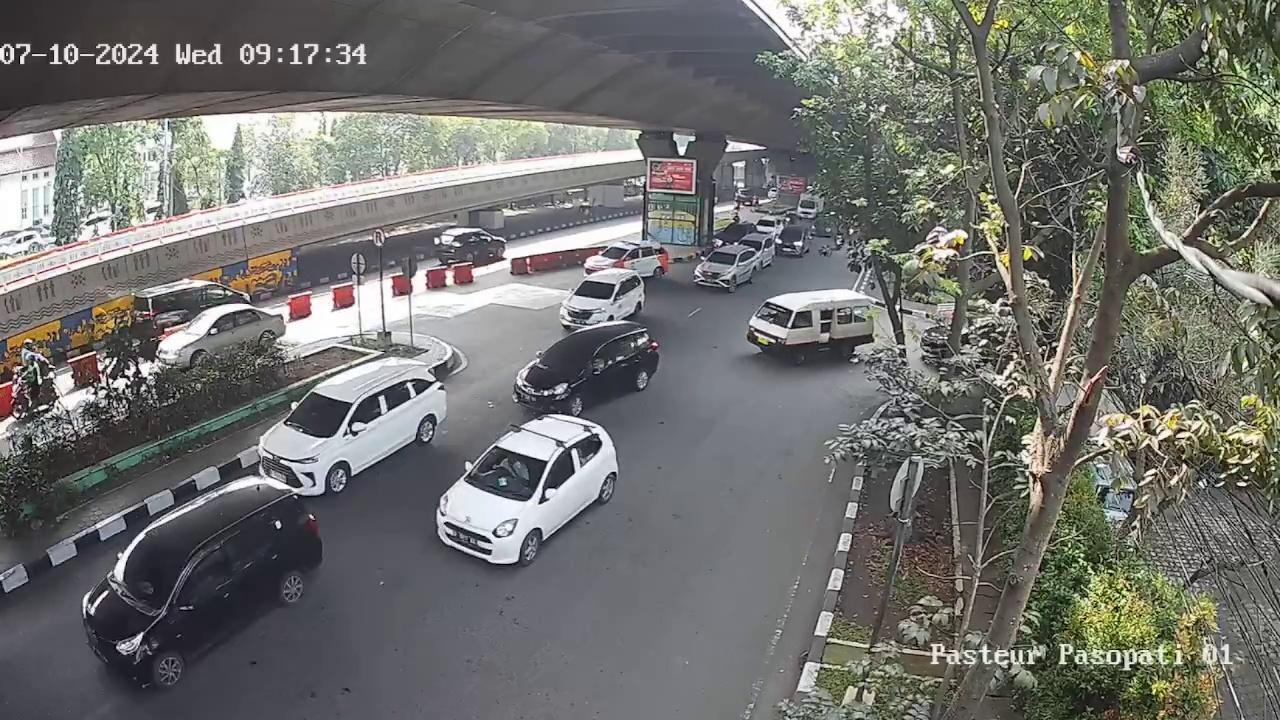pakai: (494, 454, 529, 481)
windshield: (110, 544, 190, 603), (470, 441, 547, 497), (284, 392, 352, 437), (540, 343, 594, 373), (574, 280, 616, 300)
